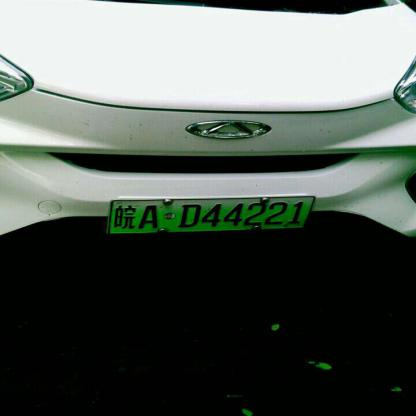lp: (108, 197, 314, 233)
